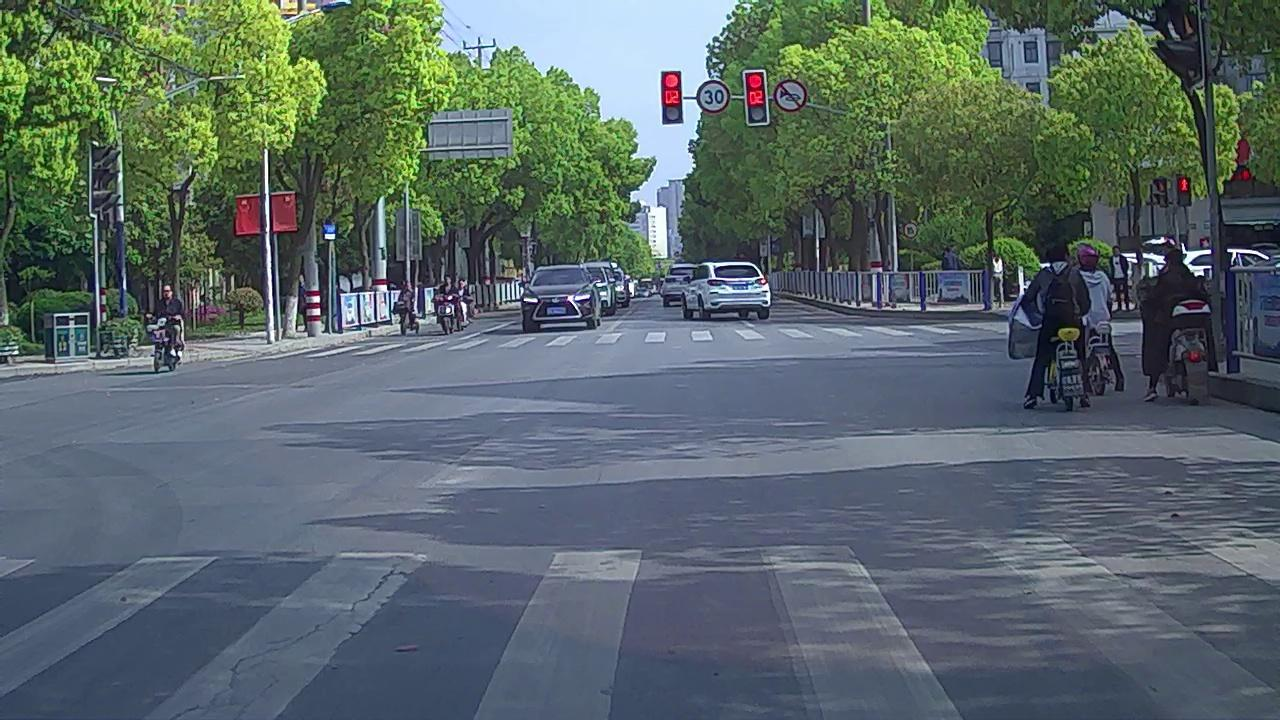traffic_light: (745, 70, 768, 123), (662, 70, 683, 123)
